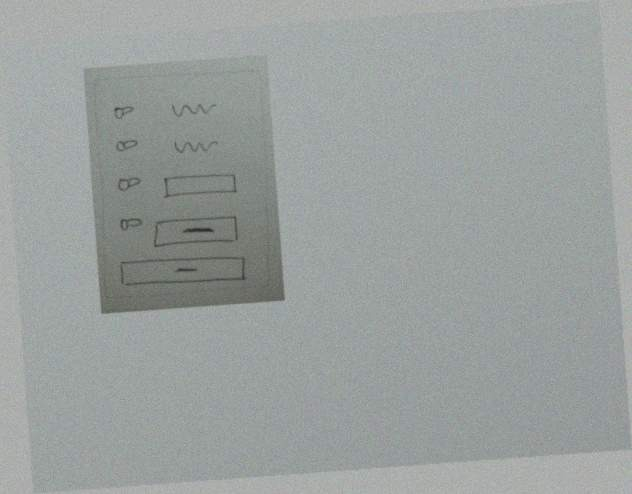button: (116, 250, 250, 293), (150, 212, 243, 253)
switch: (115, 173, 146, 197), (117, 213, 146, 236), (111, 100, 139, 122), (112, 133, 140, 154)
text: (166, 97, 220, 123), (169, 135, 222, 159)
text_input: (159, 168, 243, 205)
